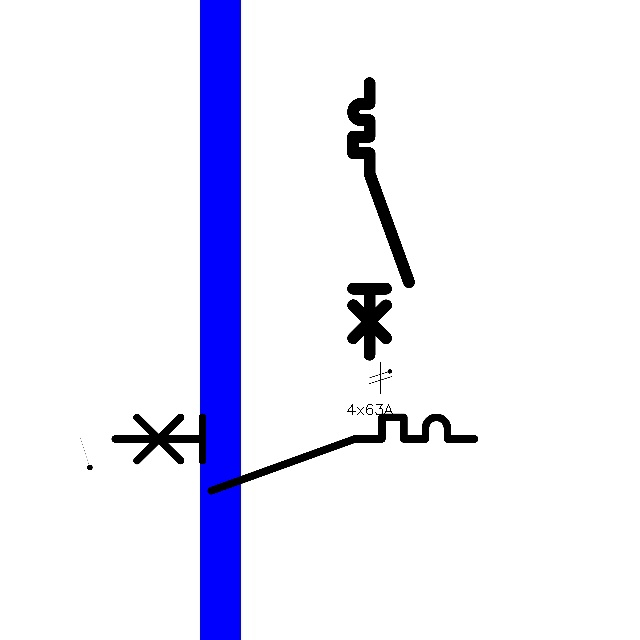interruptor_termomagnetico: (105, 408, 484, 500), (346, 76, 416, 361)
